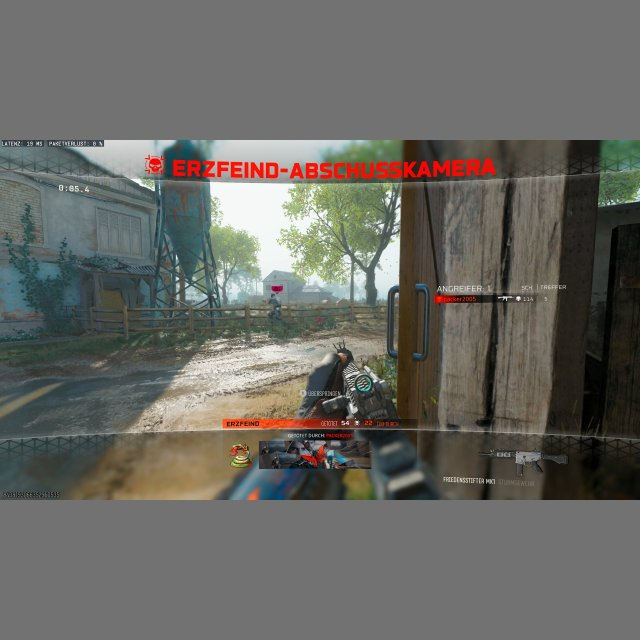player: (273, 349, 428, 499), (266, 294, 281, 320)
